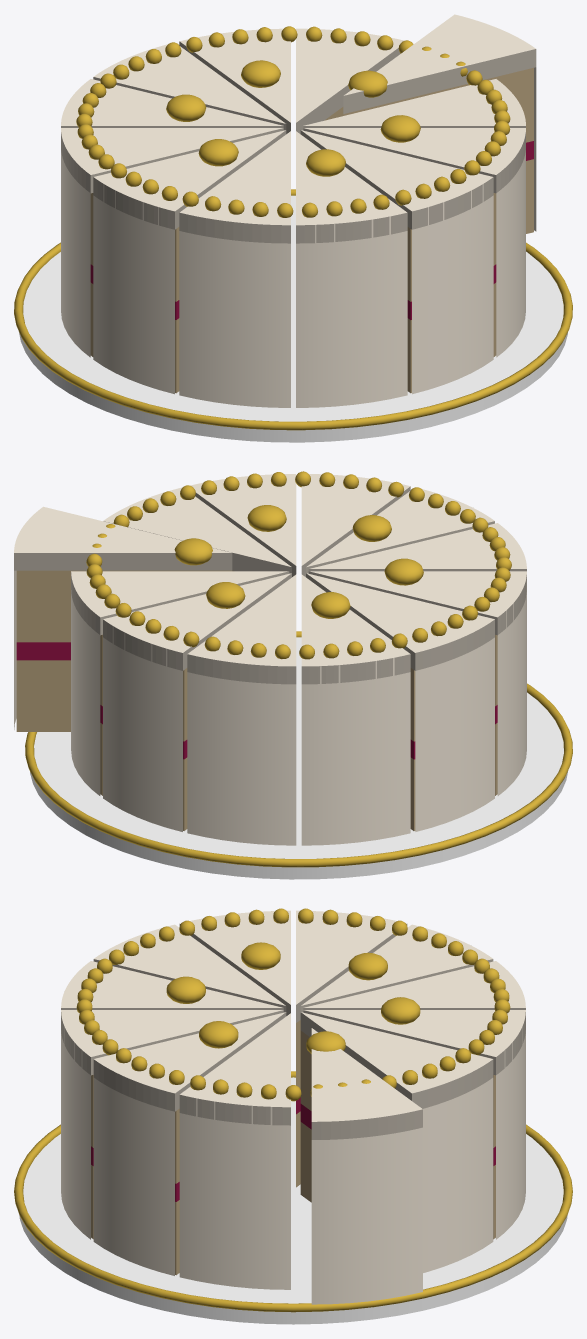
The model's file is torta-24cm-11alto-1p-12porc-vainilla.glb.
The picture shows the model from 3 angles, top to bottom: view 1: azimuth 30°, elevation 25°; view 2: azimuth 150°, elevation 25°; view 3: azimuth 270°, elevation 25°; orthographic projection. The views are drawn at different scales.
Bounding box in the file's own units: 0.3111 × 0.1316 × 0.305.
